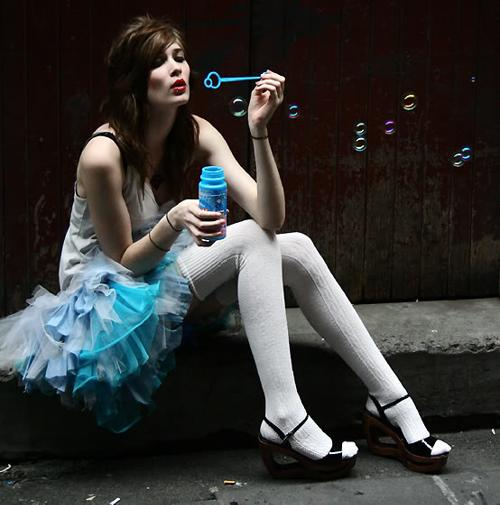person: (7, 16, 455, 491)
